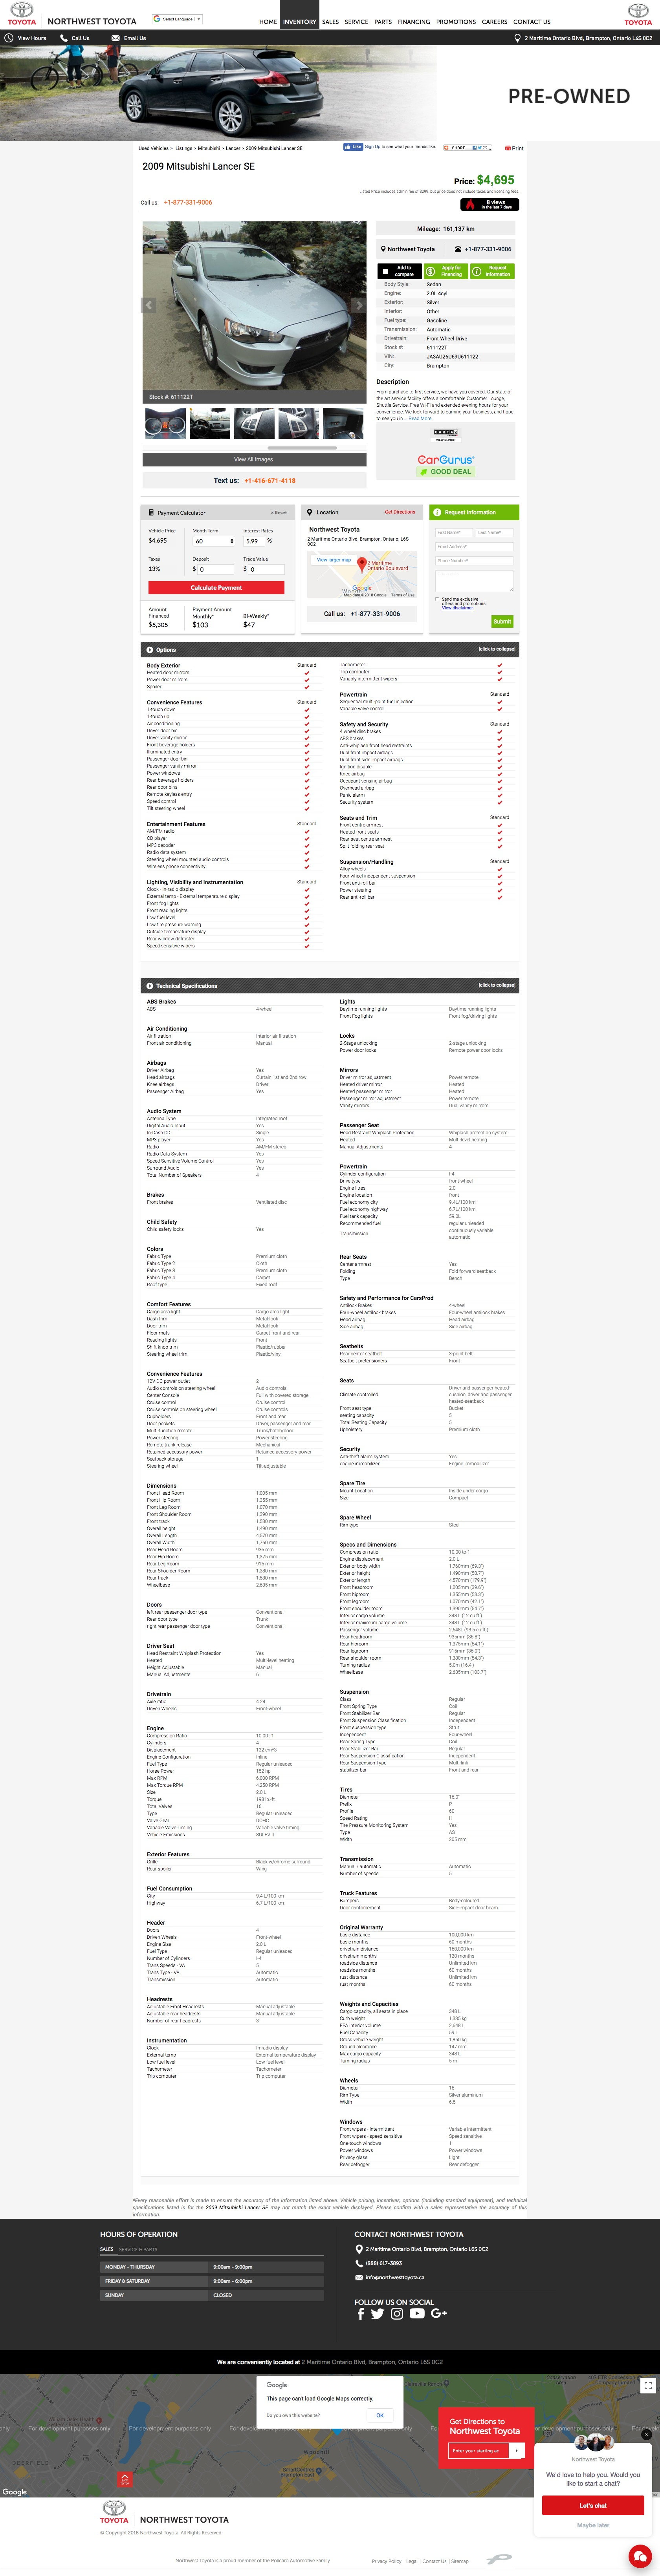car: (351, 297, 367, 314)
